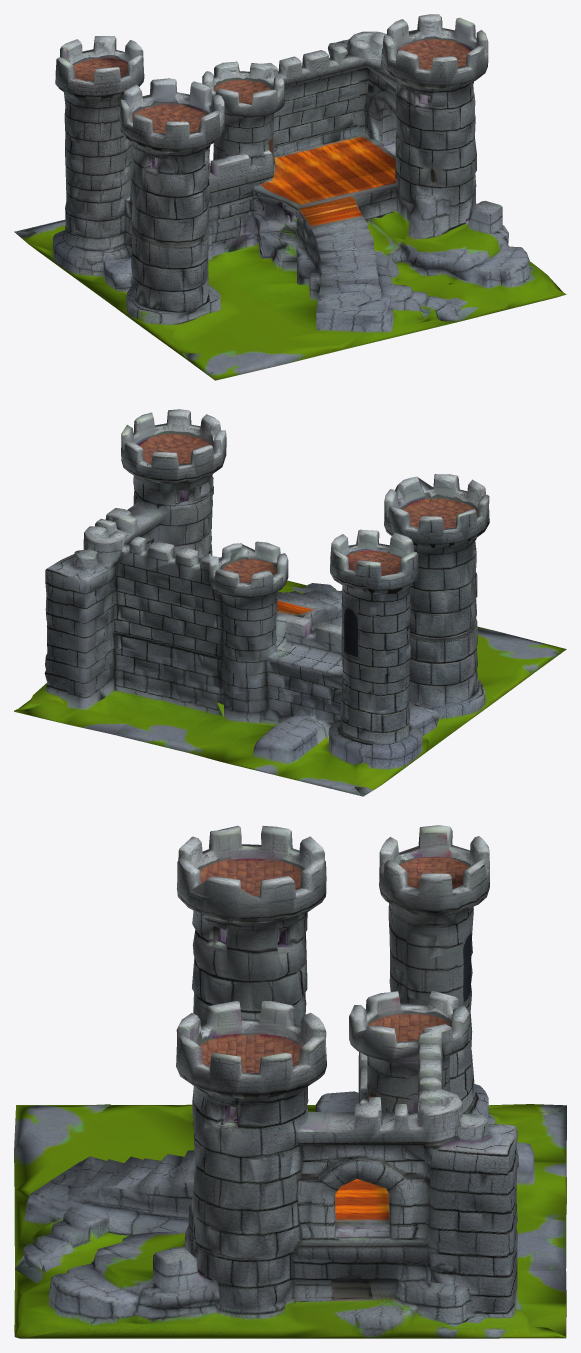
File: act2_wall.glb
The picture shows the model from 3 angles, top to bottom: view 1: azimuth 30°, elevation 25°; view 2: azimuth 150°, elevation 25°; view 3: azimuth 270°, elevation 25°; orthographic projection. The views are drawn at different scales.
Bounding box in the file's own units: 1.91 × 1.07 × 1.91.
Materials: 1 (1 with a texture image).
